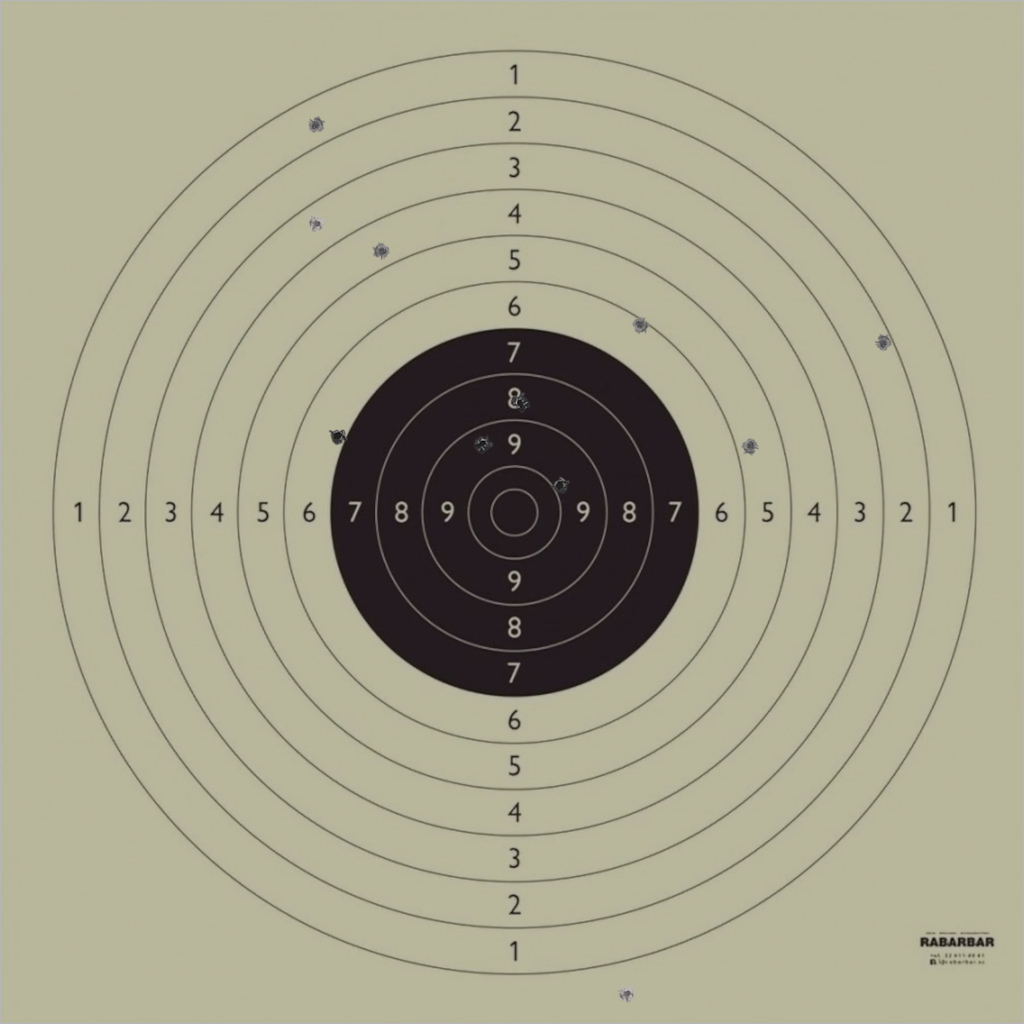0 punktow: (618, 985, 636, 1003)
1 punkt: (307, 116, 325, 134)
10 punktow: (551, 476, 569, 494)
2 punkty: (874, 334, 893, 352)
3 punkty: (308, 215, 326, 233)
4 punkty: (373, 242, 391, 260)
5 punktow: (741, 437, 760, 455)
6 punktow: (631, 316, 649, 334)
7 punktow: (329, 427, 347, 445)
8 punktow: (512, 394, 530, 413)
9 punktow: (474, 434, 492, 453)
